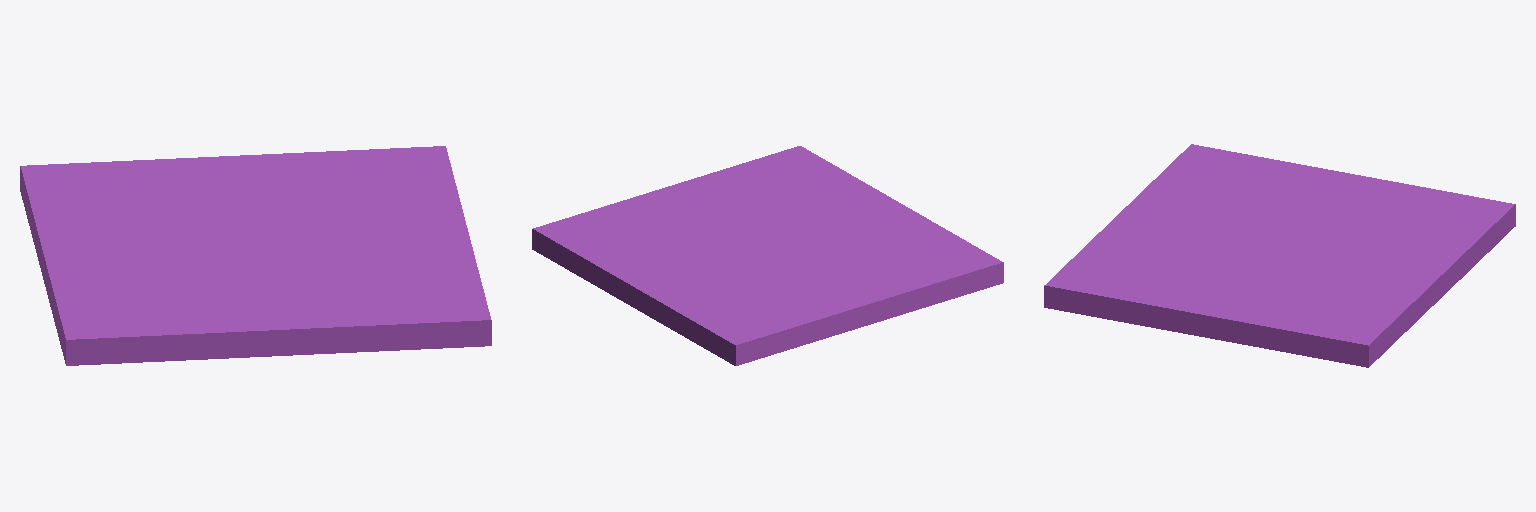
The robot description file, URDF, robot "Interference":
<?xml version="1.0"?>
<robot name="Interference">
  <link name="baseLink">
    <inertial>
      <origin xyz="0.0 0.0 0.0" rpy="0.0 0.0 0.0"/>
      <inertia ixx="0.0" ixy="0.0" ixz="0.0" iyy="0.0" iyz="0.0" izz="0.0"/>
      <mass value="0"/>
    </inertial>
    <visual>
      <origin xyz="0.0 0.0 0.0" rpy="0.0 0.0 1.157444471397827"/>
      <geometry>
        <box size="0.14379987024717322 0.14841730547202578 0.01"/>
      </geometry>
      <material name="color">
        <color rgba="0.7207395937221174 0.41362823204390775 0.7983841075861225 1.0"/>
      </material>
    </visual>
  </link>
</robot>

--- Facts derived from the render (not from the file) ---
3 views of the same robot in one strip: view 1: azimuth 30°, elevation 25°; view 2: azimuth 150°, elevation 25°; view 3: azimuth 270°, elevation 25° (orthographic).
Model Interference with 1 links and 0 joints (none), rooted at baseLink, posed every joint at zero.
Links seen in each view (by area): view 1: baseLink; view 2: baseLink; view 3: baseLink.
Link boxes in pixels (x1,y1,x2,y2): baseLink: (20, 146, 491, 365); baseLink: (532, 146, 1003, 365); baseLink: (1044, 144, 1515, 367).
Bounding box of the posed robot: 0.1937 × 0.1913 × 0.01 m (x, y, z).
Geometry: primitives only (box / cylinder / sphere), no mesh files.